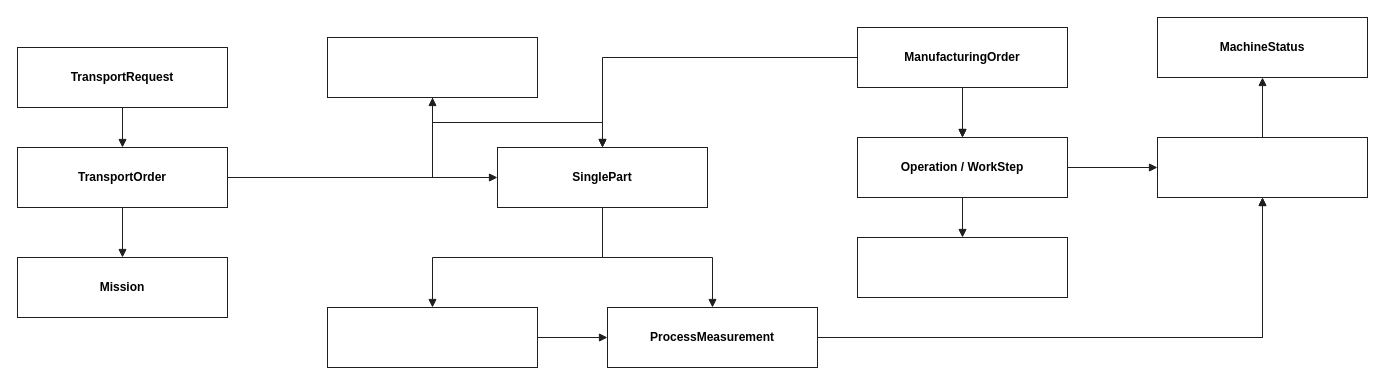
Some shapes in this 1385 by 385 pixel diagram are drawn without their labels. The shapes that lost their labels are listed below. From the top down, each one's centre as x and y in pixels, then its label:
(x=432, y=67): HandlingUnit (HU)
(x=1262, y=167): Machine / Asset
(x=962, y=267): Component / BOM Item
(x=432, y=337): LocationEvent
